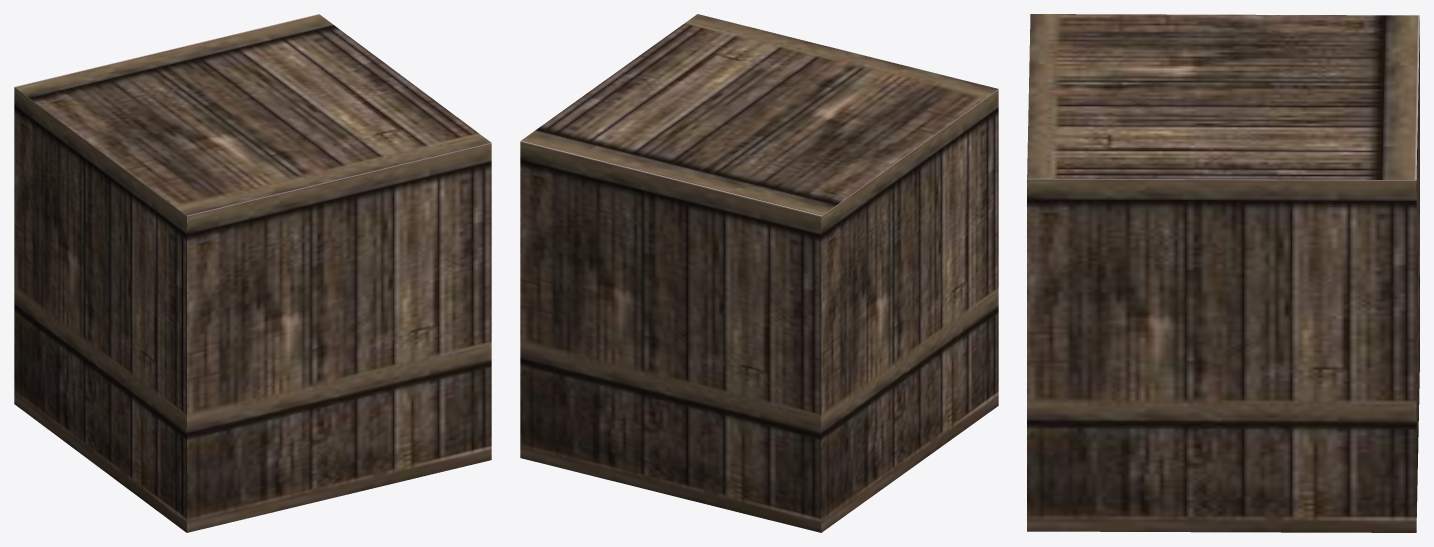
File: BBox01.FBX
The picture shows the model from 3 angles, left to right: view 1: azimuth 30°, elevation 25°; view 2: azimuth 150°, elevation 25°; view 3: azimuth 270°, elevation 25°; orthographic projection. The views are drawn at different scales.
Visible parts, largest first — view 1: Object05, Object06, Object04, Object03, Object146, Object01, Object02; view 2: Object09, Object10, Object04, Object03, Object146, Object01, Object02; view 3: Object07, Object08, Object146, Object01, Object02, Object09, Object10.
Boxes of the visible parts, <box> form: Object05: <box>187,175,355,532</box>; Object06: <box>347,143,491,494</box>; Object04: <box>14,87,118,468</box>; Object03: <box>101,165,186,532</box>; Object146: <box>118,14,373,215</box>; Object01: <box>187,55,491,215</box>; Object02: <box>15,14,318,164</box>; Object09: <box>520,141,709,496</box>; Object10: <box>677,188,821,532</box>; Object04: <box>821,140,928,532</box>; Object03: <box>910,89,998,468</box>; Object146: <box>520,89,997,141</box>; Object01: <box>577,14,997,100</box>; Object02: <box>521,139,927,215</box>; Object07: <box>1027,178,1291,532</box>; Object08: <box>1230,179,1416,532</box>; Object146: <box>1031,14,1415,179</box>; Object01: <box>1027,14,1291,179</box>; Object02: <box>1185,14,1419,179</box>; Object09: <box>1416,84,1418,517</box>; Object10: <box>1418,20,1419,436</box>.
Size of the model in its own units: 26.54 by 26.32 by 26.54.
1 material, 1 textured.
